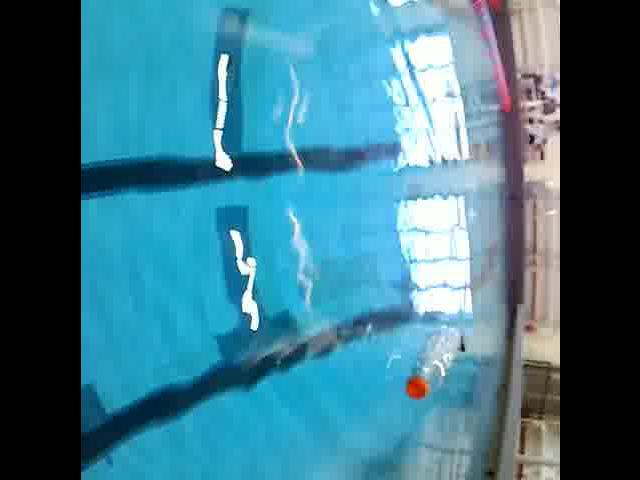Bottle: (403, 323, 461, 405)
